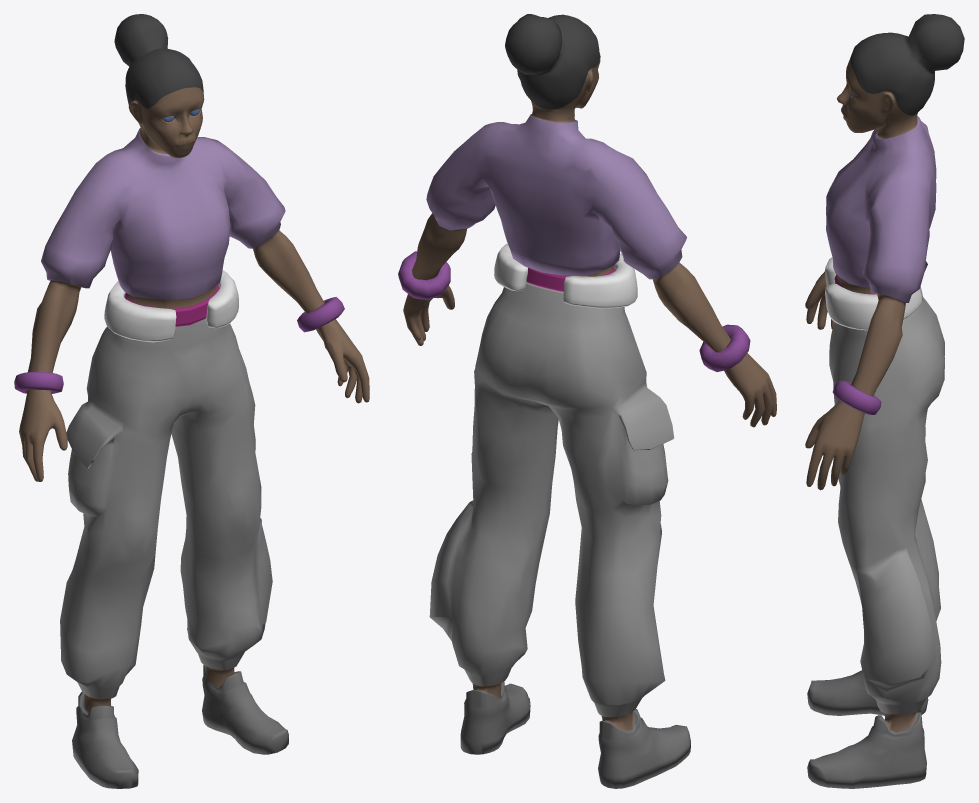
The model's file is export_Prune_low.fbx.
The picture shows the model from 3 angles, left to right: view 1: azimuth 30°, elevation 25°; view 2: azimuth 150°, elevation 25°; view 3: azimuth 270°, elevation 25°; orthographic projection. The views are drawn at different scales.
Parts seen in each view (by area): view 1: body_low, sacoche_low, bracelets_low; view 2: body_low, sacoche_low, bracelets_low; view 3: body_low, sacoche_low, bracelets_low.
Part boxes in pixels (x1,y1,x2,y2): body_low: (19,14,369,788); sacoche_low: (104,270,238,342); bracelets_low: (14,297,344,393); body_low: (403,14,776,788); sacoche_low: (494,243,637,308); bracelets_low: (398,251,750,371); body_low: (805,14,964,788); sacoche_low: (825,257,922,330); bracelets_low: (832,380,881,414).
Bounding box in the file's own units: 5.98 × 11.93 × 2.37.
